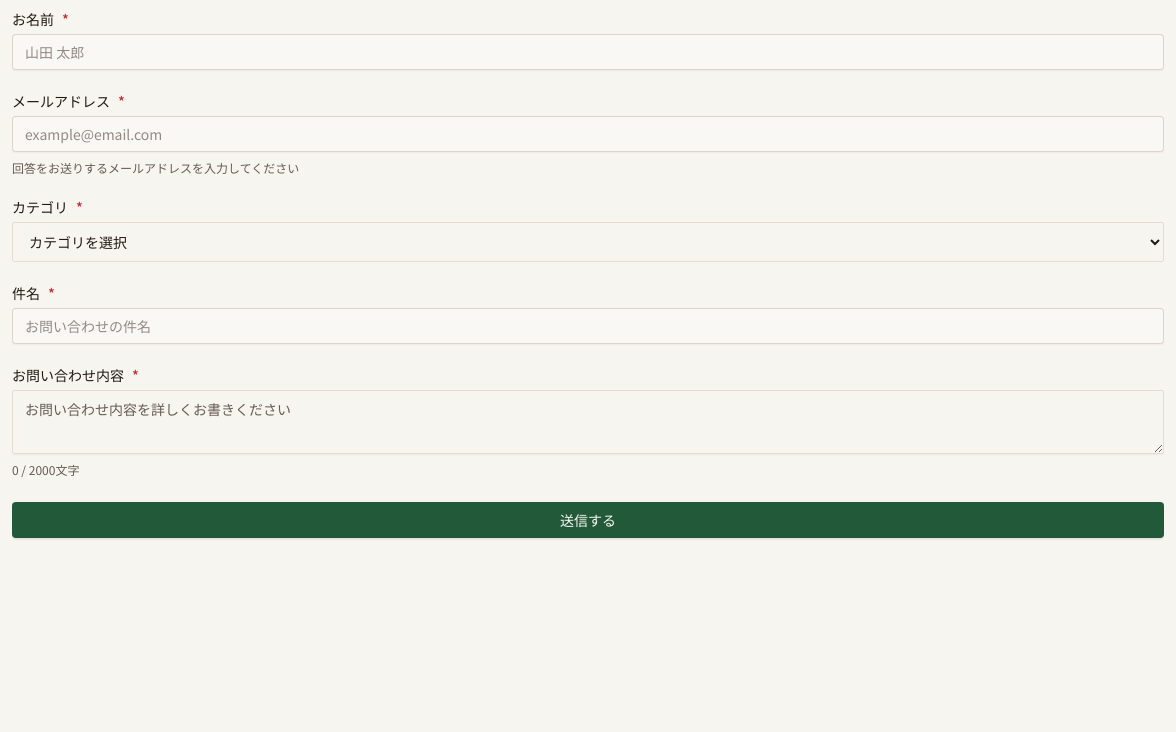
Test: ContactForm › バリデーション › 無効なメールアドレスの場合エラーを表示する
In the field labelled "お名前 *": {"x": 588, "y": 52} [12,34,1164,70], type "山田太郎"
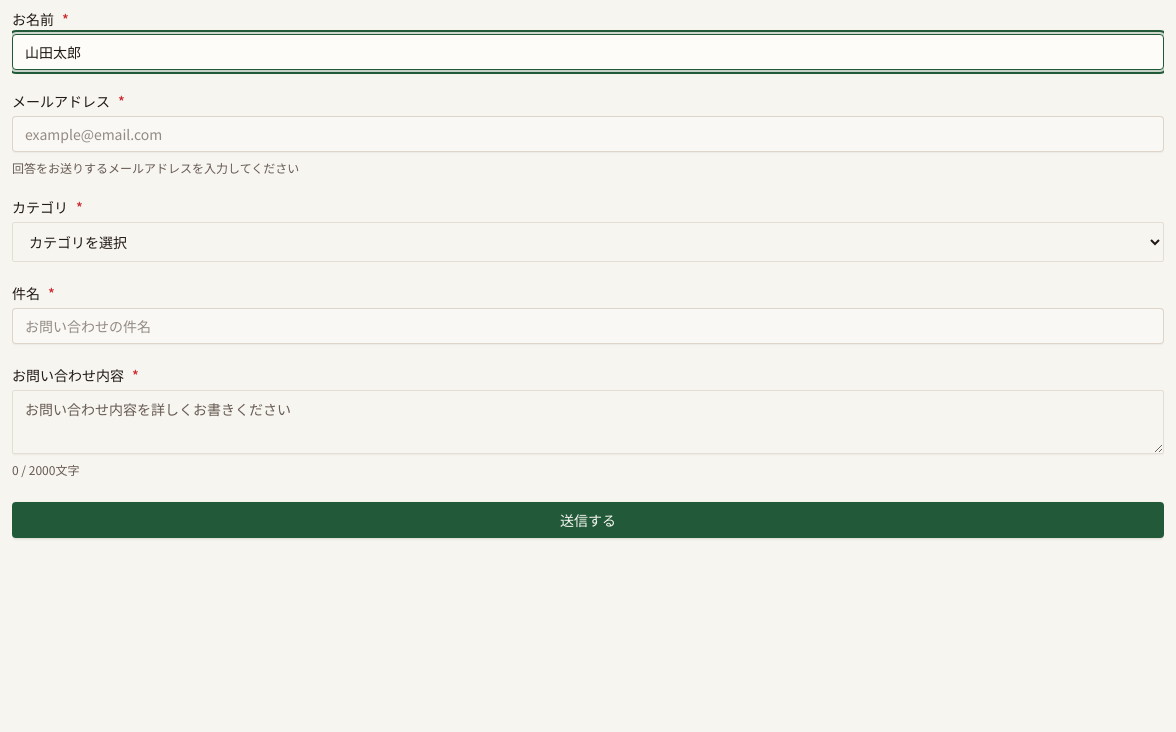
@は含むがドメインが不正なメールアドレス
In the field labelled "メールアドレス *": {"x": 588, "y": 134} [12,116,1164,152], type "test@invalid"
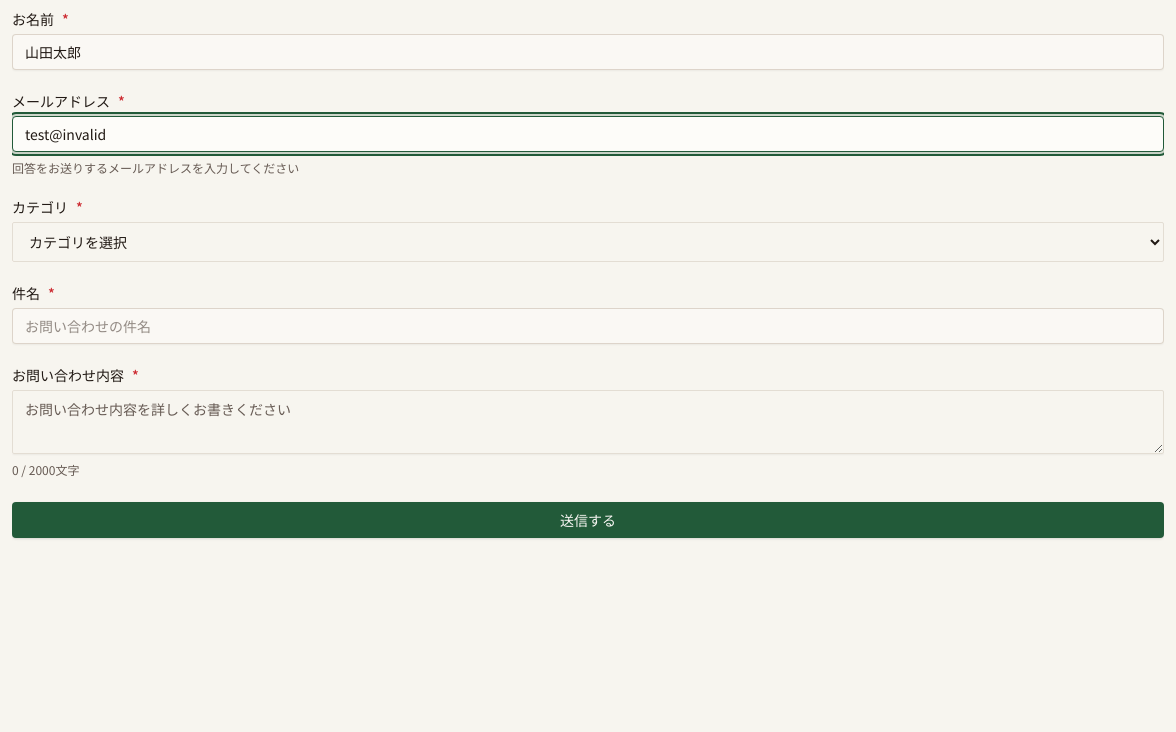
Click the button "送信する": {"x": 588, "y": 520} [12,502,1164,538]
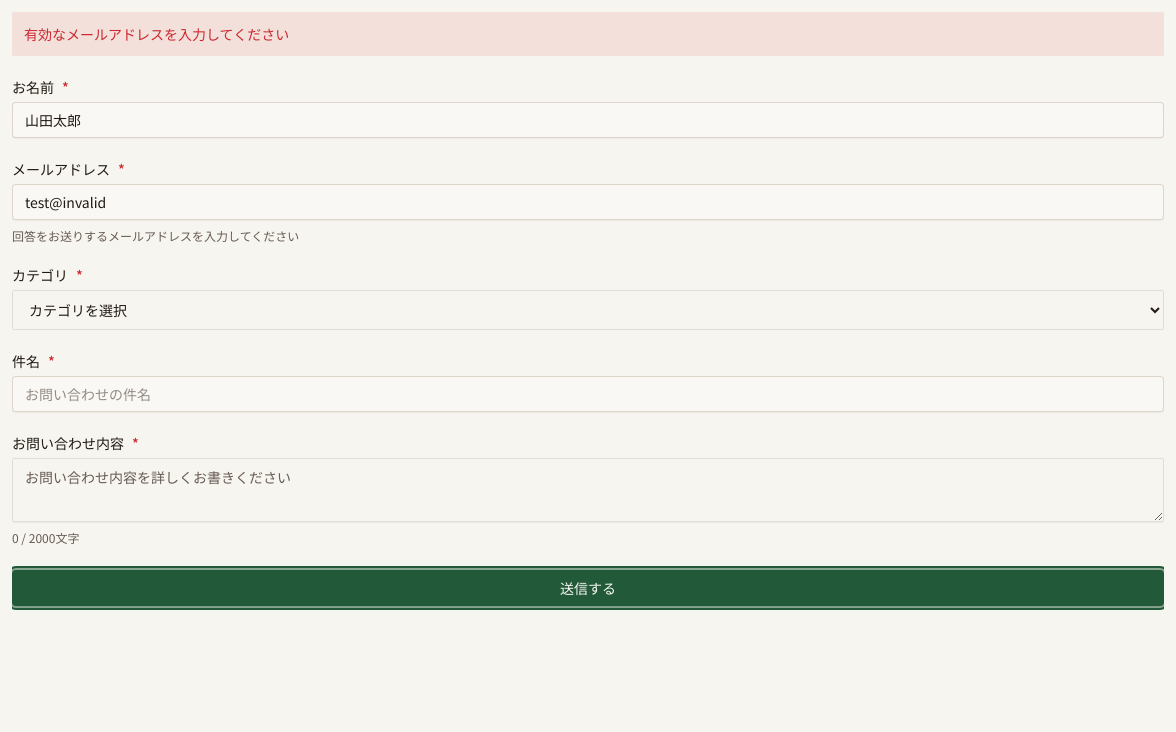
Result: the text "有効なメールアドレスを入力してください" is shown at [12,12,1164,56]
